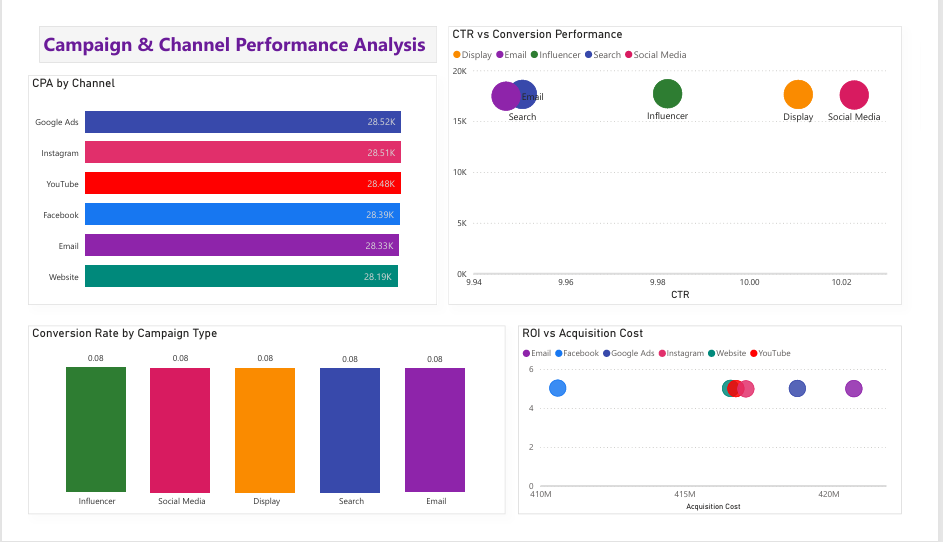

This screenshot's page, from the dashboard's own definition file:
{"tool":"powerbi","page":{"name":"Page 2","canvas":[1280,720],"ordinal":1},"visuals":[{"type":"clusteredColumnChart","title":"Conversion Rate by Campaign Type","fields":{"Category":["public dim_campaign.campaign_type"],"Y":["public fact_campaign_performance.Avg Conversion Rate"]},"box":[12.7,438.1,678.6,267.6],"z":0},{"type":"clusteredBarChart","title":"CPA by Channel","fields":{"Category":["public dim_channel.channel_used"],"Y":["public fact_campaign_performance.CPA"]},"box":[12.7,82.8,581.4,326.5],"z":1000},{"type":"scatterChart","title":"CTR vs Conversion Performance","fields":{"X":["public fact_campaign_performance.CTR %"],"Series":["public dim_campaign.campaign_type"],"Size":["public fact_campaign_performance.Estimated Revenue"],"Y":["public fact_campaign_performance.Conversions"]},"box":[610.1,12.7,643.5,396.6],"z":2000},{"type":"textbox","box":[28.7,12.7,565.5,52.6],"z":3000},{"type":"scatterChart","title":"ROI vs Acquisition Cost","fields":{"X":["Sum(public fact_campaign_performance.acquisition_cost)"],"Y":["public fact_campaign_performance.ROI %"],"Size":["public fact_campaign_performance.Total Clicks"],"Series":["public dim_channel.channel_used"]},"box":[708.8,438.1,544.8,267.6],"z":5001}]}

Visuals, with their boxes in screenshot pixels (x1, y1, x2, y2), scaled from the page's 1280x720 canvas onto the 943x542 screenshot:
"Conversion Rate by Campaign Type" clusteredColumnChart: bbox=(9, 330, 509, 531)
"CPA by Channel" clusteredBarChart: bbox=(9, 62, 438, 308)
"CTR vs Conversion Performance" scatterChart: bbox=(449, 10, 924, 308)
textbox: bbox=(21, 10, 438, 49)
"ROI vs Acquisition Cost" scatterChart: bbox=(522, 330, 924, 531)
